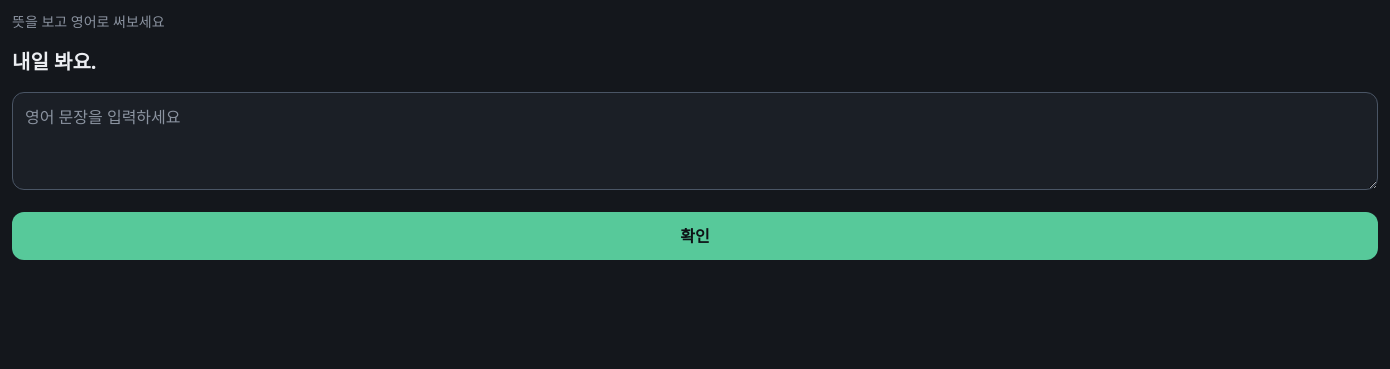
it: WriteSentenceCard › reveals the answer when wrong
Later steps or results of the test are not shown.
Type "totally different" into the text box. click: {"x": 695, "y": 140}
box: [12,92,1378,190]
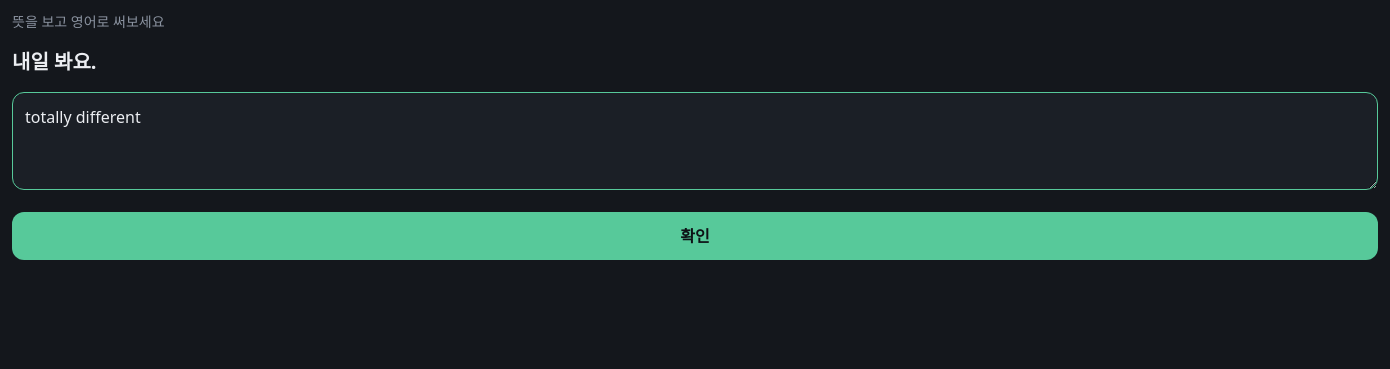
Click the button "확인". click: {"x": 695, "y": 236}
box: [12,212,1378,260]
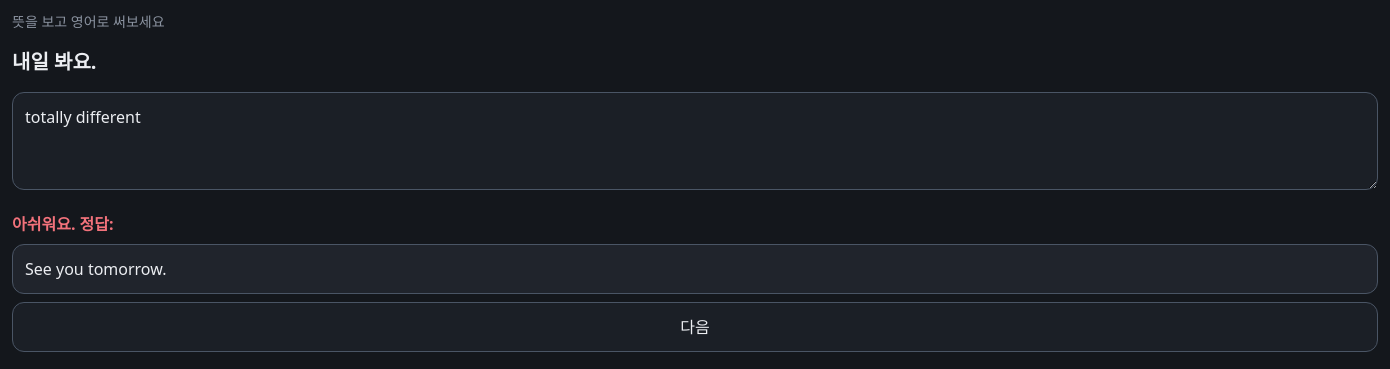
Result: the text "See you tomorrow." is shown at [12,244,1378,294]
